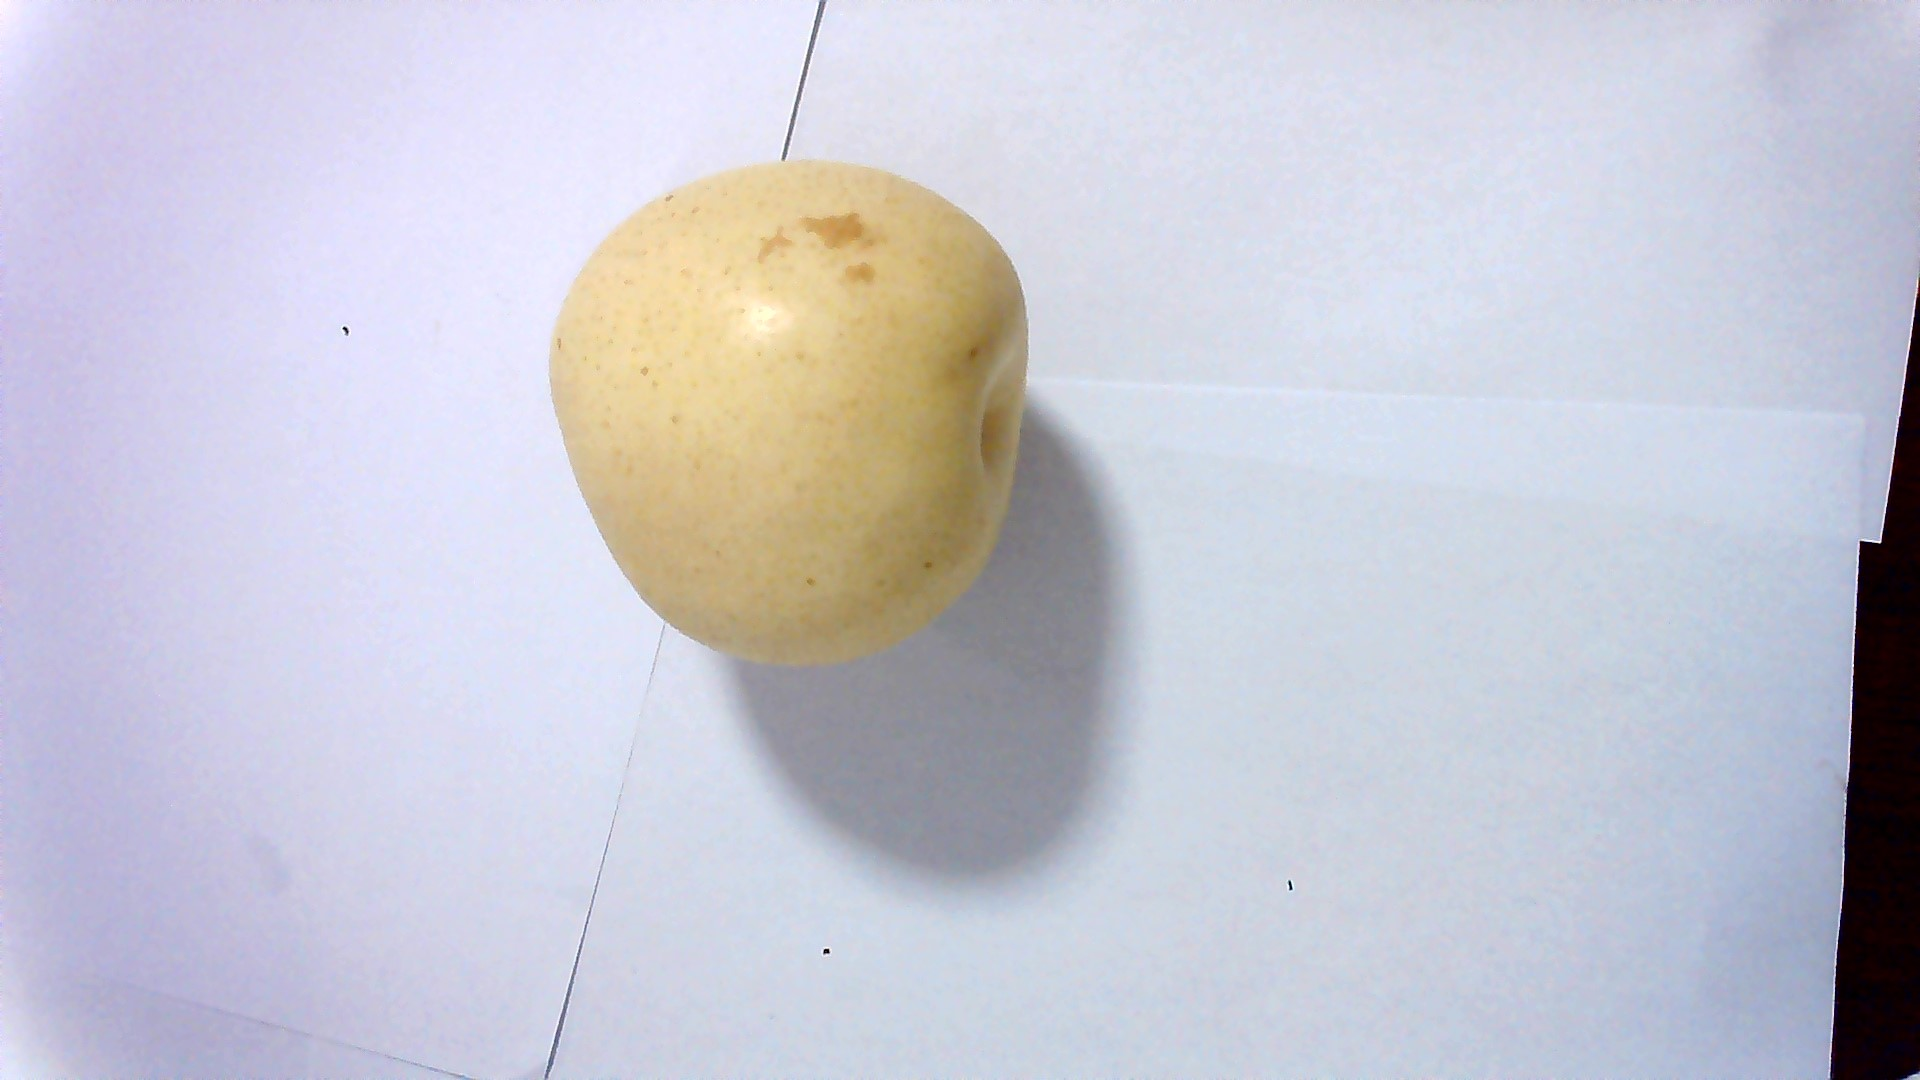pear: (579, 153, 1050, 650)
